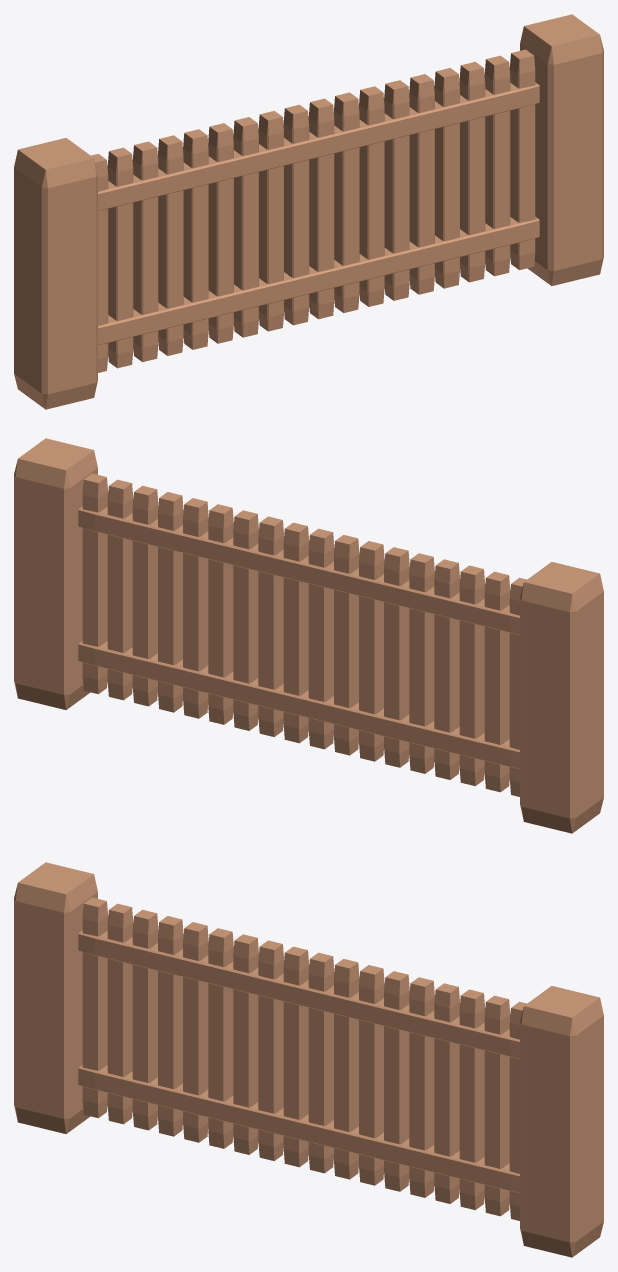
File: b19_tubular_field_gate.glb
3 views of the same model, one above another, from view 1: azimuth 30°, elevation 25°; view 2: azimuth 150°, elevation 25°; view 3: azimuth 330°, elevation 25° (orthographic).
Visible parts, largest first — view 1: b19_tubular_field_gate; view 2: b19_tubular_field_gate; view 3: b19_tubular_field_gate.
Boxes of the visible parts, x1,y1,x2,y2 form: b19_tubular_field_gate: [14, 14, 603, 409]; b19_tubular_field_gate: [14, 438, 603, 833]; b19_tubular_field_gate: [14, 862, 603, 1257].
Bounding box in the file's own units: 3.41 × 1.39 × 0.34.
